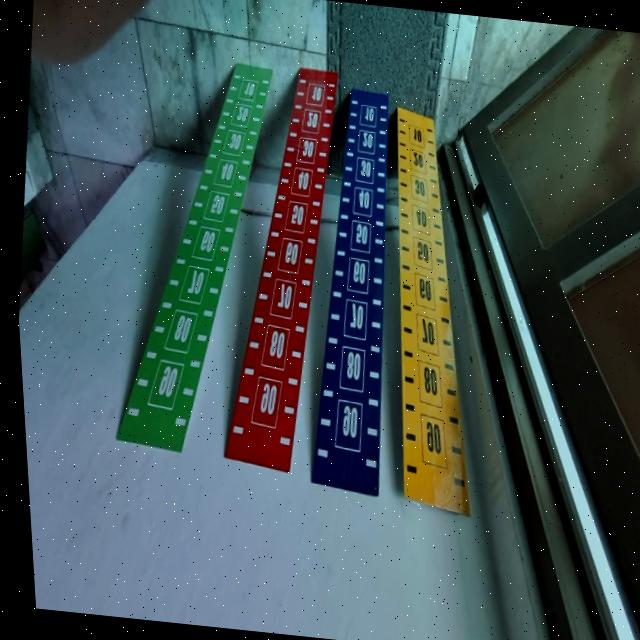water-meter: (83, 41, 303, 472), (192, 44, 367, 494), (347, 96, 514, 542), (280, 78, 421, 509)
